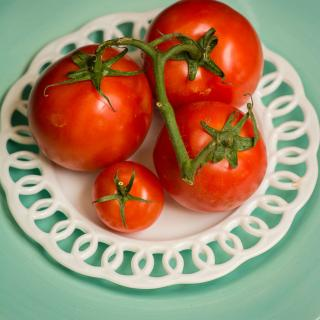tomato: (26, 41, 154, 173), (136, 0, 267, 106), (154, 98, 266, 213), (91, 160, 165, 234)
